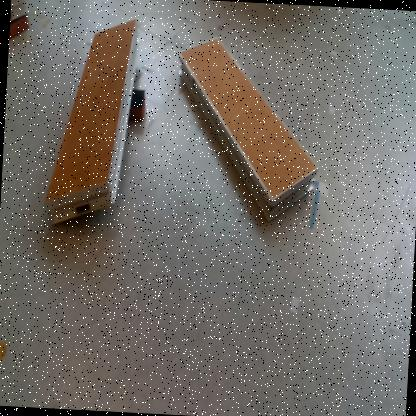Stairs: (177, 34, 322, 224), (44, 20, 141, 229), (11, 1, 29, 20)
